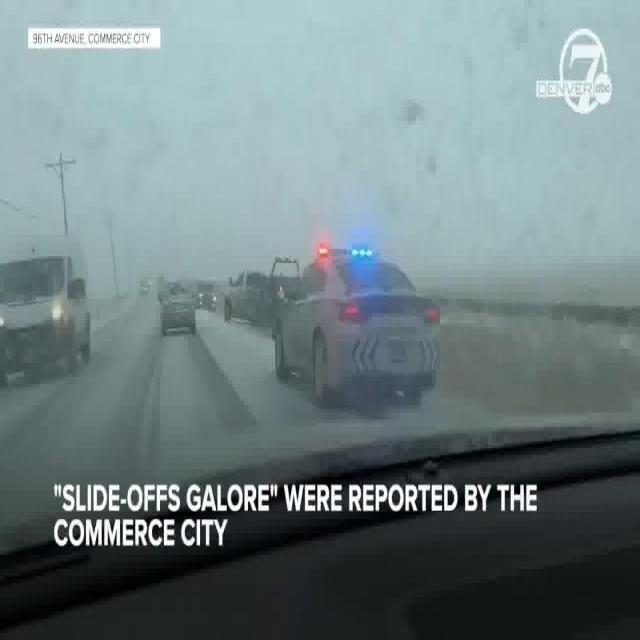Car: (270, 222, 440, 406), (156, 269, 200, 340), (221, 258, 266, 320)
Truck: (0, 214, 114, 396)
